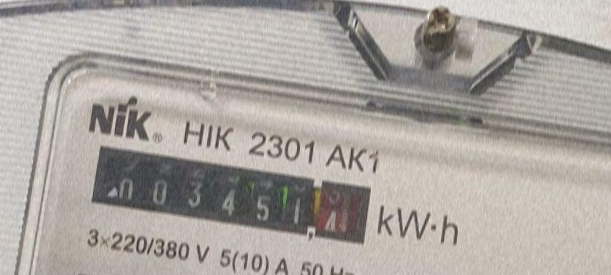0: (147, 176, 169, 206), (113, 173, 135, 202)
1: (286, 193, 305, 226)
3: (182, 177, 204, 210)
4: (215, 185, 239, 219), (317, 206, 340, 236)
5: (251, 191, 271, 223)
screen: (81, 140, 377, 252)
